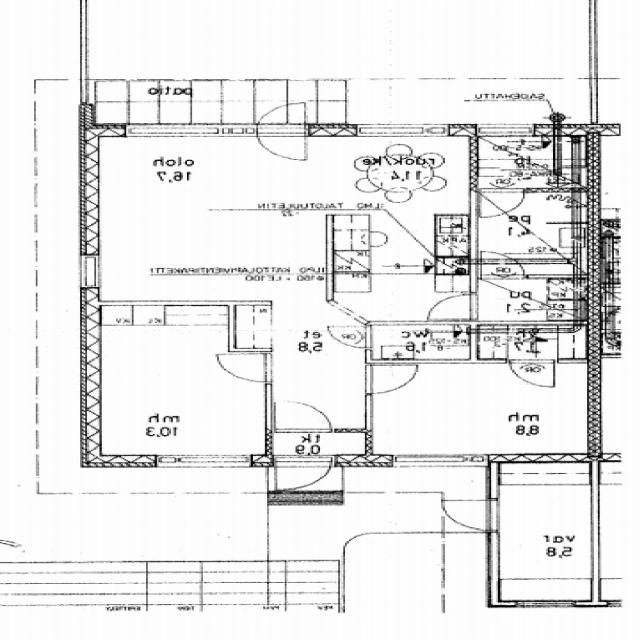door: (276, 455, 331, 499), (257, 94, 306, 136), (257, 124, 306, 164), (275, 397, 330, 432), (440, 500, 500, 530), (366, 365, 420, 394), (218, 354, 271, 382), (480, 249, 524, 279), (511, 359, 554, 389), (429, 294, 478, 320), (481, 188, 523, 217), (328, 326, 372, 348)
